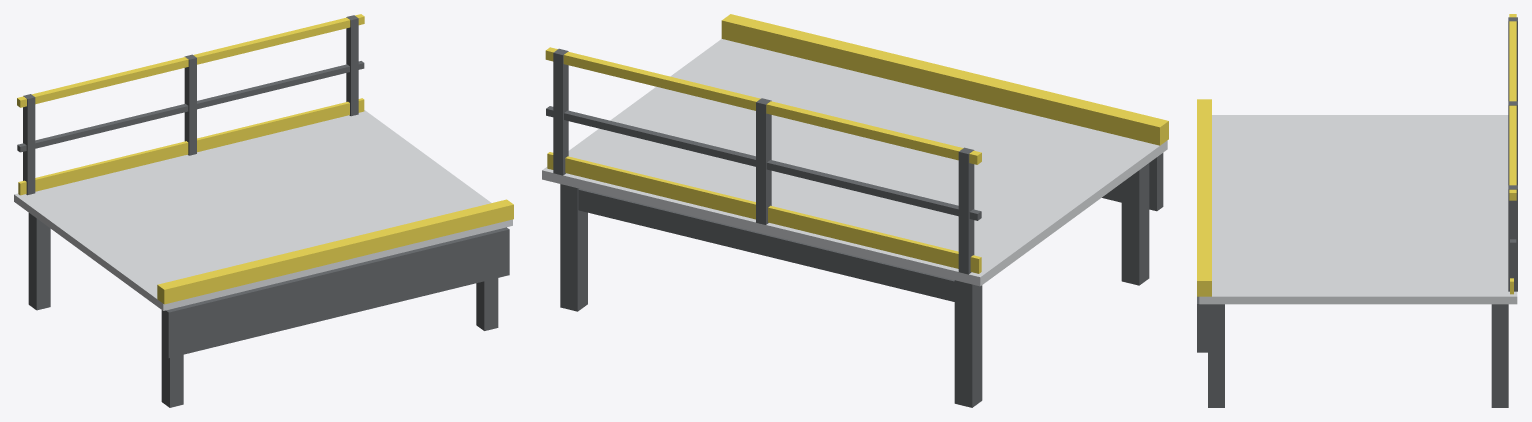
The model's file is recycling-and-waste-transfer-yard-recycling-and-waste--877e6ccd__34888.glb.
3 views of the same model, side by side, from view 1: azimuth 30°, elevation 25°; view 2: azimuth 150°, elevation 25°; view 3: azimuth 270°, elevation 25° (orthographic). The views are drawn at different scales.
Parts seen in each view (by area): view 1: recycling-and-waste-transfer-yard-skip-platform-section; view 2: recycling-and-waste-transfer-yard-skip-platform-section; view 3: recycling-and-waste-transfer-yard-skip-platform-section.
Boxes of the visible parts, box(x1,y1,x2,y2) form: recycling-and-waste-transfer-yard-skip-platform-section: box(14, 14, 513, 407); recycling-and-waste-transfer-yard-skip-platform-section: box(542, 14, 1168, 407); recycling-and-waste-transfer-yard-skip-platform-section: box(1197, 14, 1517, 407).
Size of the model in its own units: 4 by 2.25 by 2.99.
